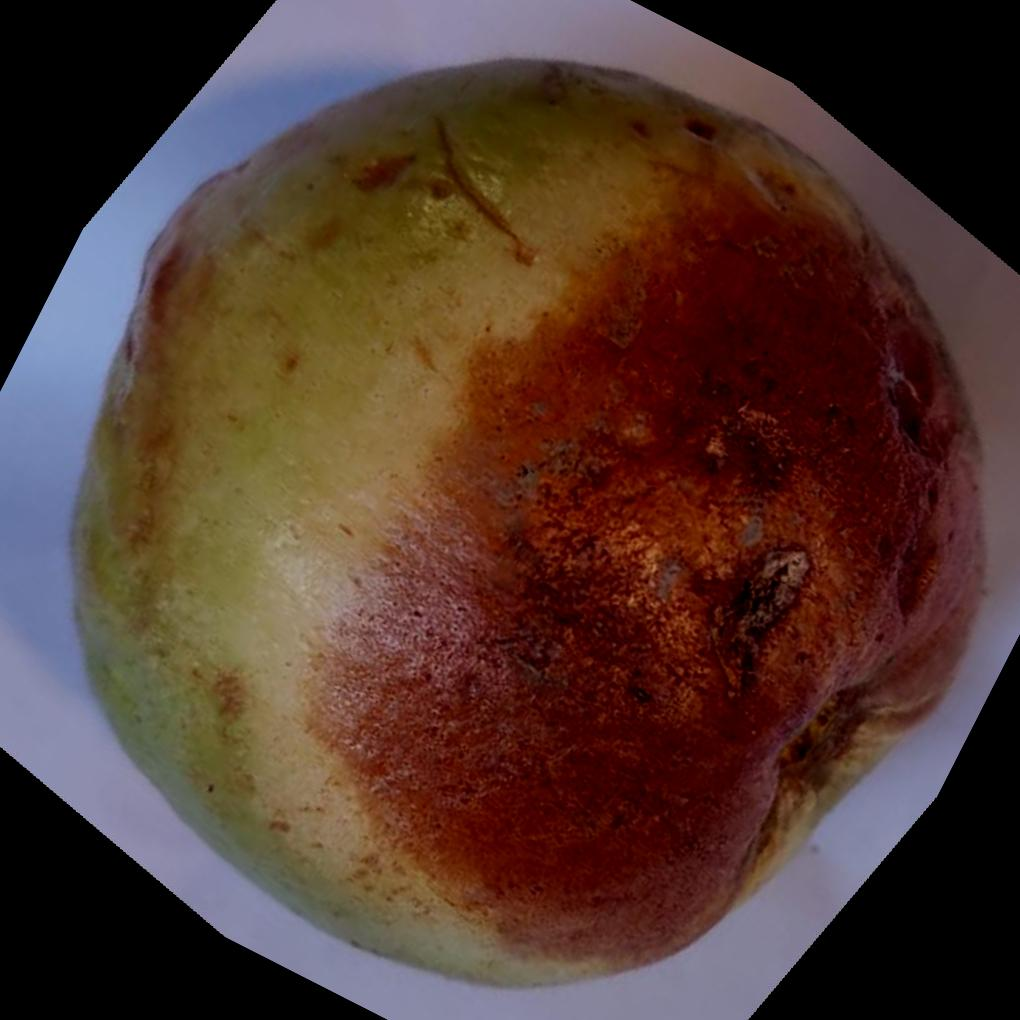FreshOrange: (69, 52, 991, 988)
